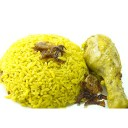briyani: (2, 34, 128, 110)
